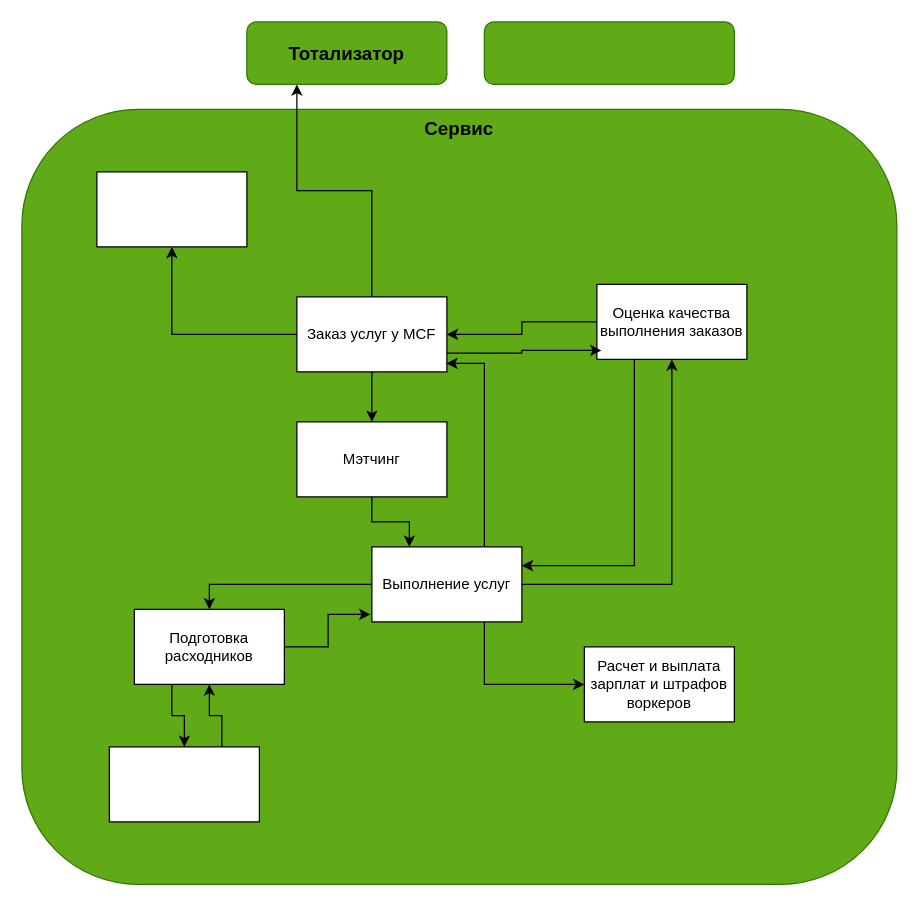
This 919x906 diagram has some shape labels left out. The centre of each missing label's shape, as x and y in pixels:
Найм новых воркеров: the point at 608,52
Оплата заказов: the point at 171,209
Приготовление печенья: the point at 183,784
